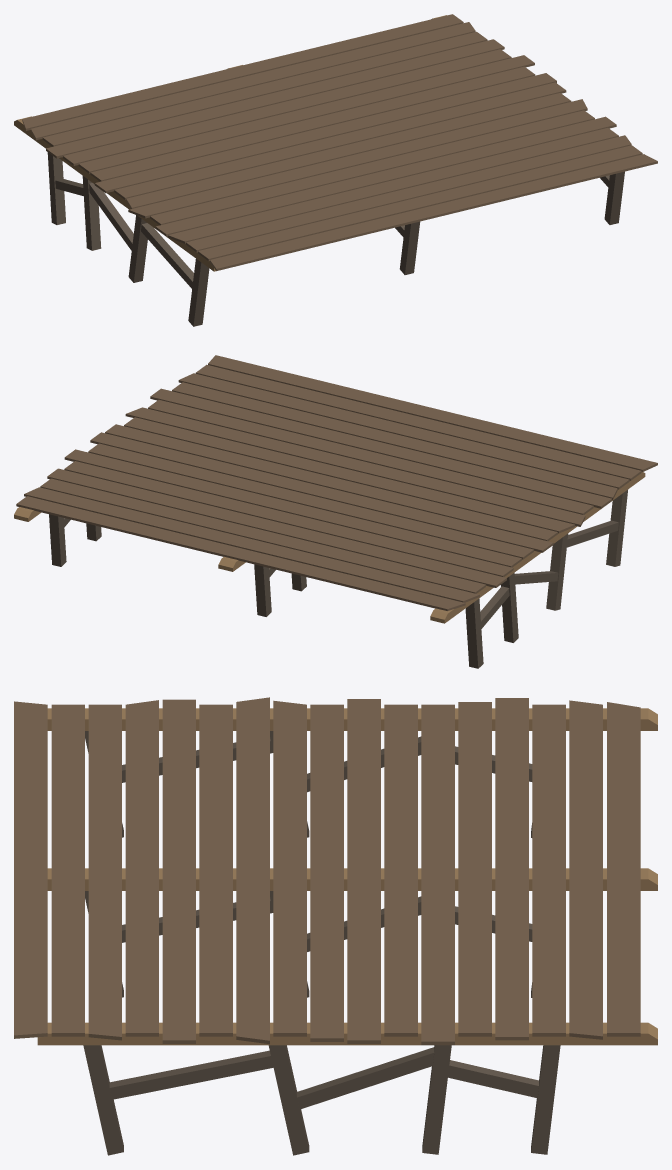
File: Trench_Bridge.fbx
3 views of the same model, one above another, from view 1: azimuth 30°, elevation 25°; view 2: azimuth 150°, elevation 25°; view 3: azimuth 270°, elevation 25° (orthographic). The views are drawn at different scales.
Visible parts, largest first — view 1: Trench_Bridge; view 2: Trench_Bridge; view 3: Trench_Bridge.
Boxes of the visible parts, x1,y1,x2,y2 form: Trench_Bridge: (14, 14, 657, 326); Trench_Bridge: (14, 355, 657, 668); Trench_Bridge: (14, 697, 657, 1155).
Size of the model in its own units: 202 by 34.78 by 160.
